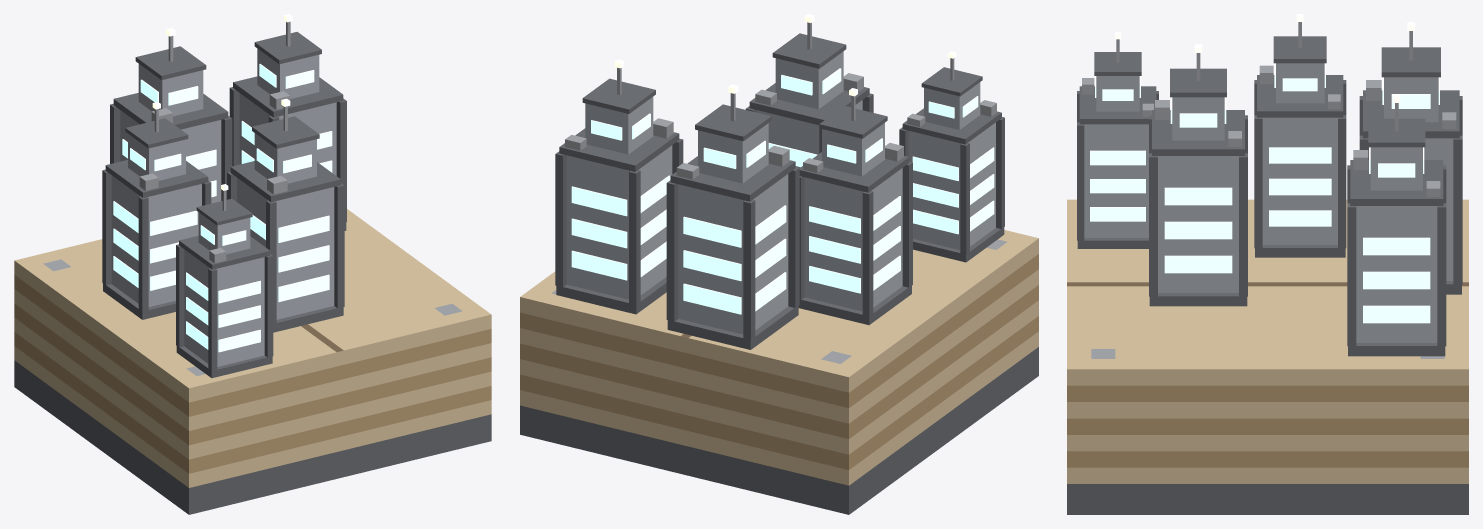
Rendered from PlywoodTile_Building5.fbx.
3 views of the same model, side by side, from view 1: azimuth 30°, elevation 25°; view 2: azimuth 150°, elevation 25°; view 3: azimuth 270°, elevation 25° (orthographic). The views are drawn at different scales.
Parts seen in each view (by area): view 1: PlywoodTile_Building5; view 2: PlywoodTile_Building5; view 3: PlywoodTile_Building5.
Part boxes in pixels (box(x1,y1,x2,y2)): PlywoodTile_Building5: box(14, 14, 491, 514); PlywoodTile_Building5: box(520, 14, 1038, 514); PlywoodTile_Building5: box(1067, 14, 1468, 514).
Size of the model in its own units: 1 by 1.09 by 1.
